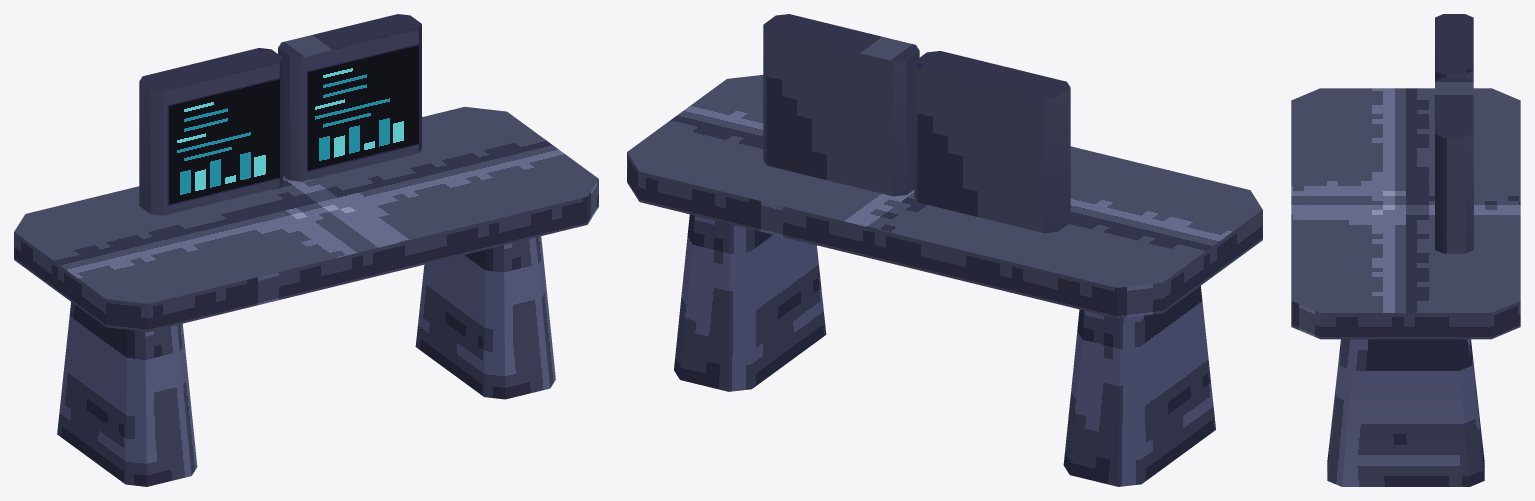
Rendered from cyroom.desk.glb.
3 views of the same model, side by side, from view 1: azimuth 30°, elevation 25°; view 2: azimuth 150°, elevation 25°; view 3: azimuth 270°, elevation 25° (orthographic). The views are drawn at different scales.
Visible parts, largest first — view 1: kit_body, kit_card_details; view 2: kit_body; view 3: kit_body.
Part boxes in pixels (x1,y1,x2,y2): kit_body: (14,14,598,486); kit_card_details: (167,43,420,205); kit_body: (627,14,1262,486); kit_body: (1291,14,1520,486).
Size of the model in its own units: 2.2 by 1.43 by 0.95.
Materials: 4 (4 with a texture image).
